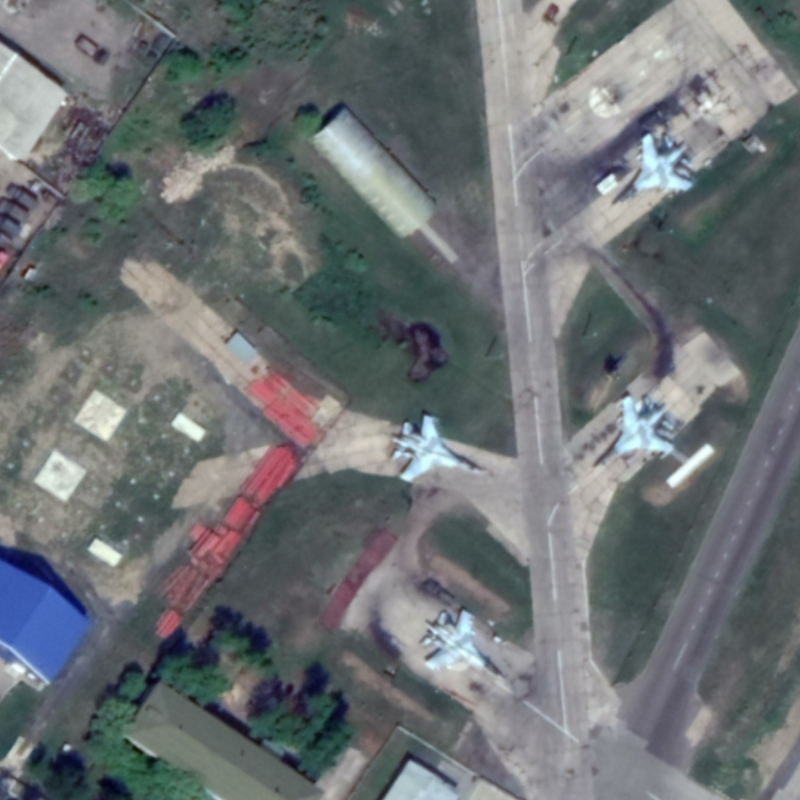A1: (389, 412, 485, 484), (419, 607, 509, 683), (591, 394, 676, 472), (611, 131, 695, 205)
